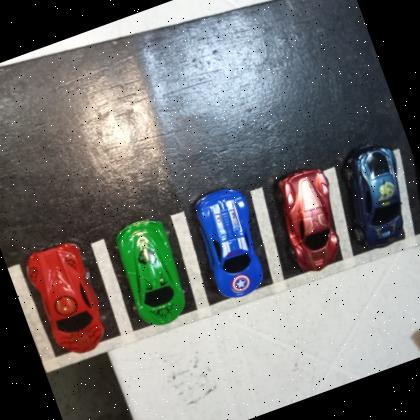Car: (18, 234, 117, 366), (182, 179, 281, 308), (102, 208, 201, 336), (263, 160, 360, 282), (328, 137, 420, 257)
